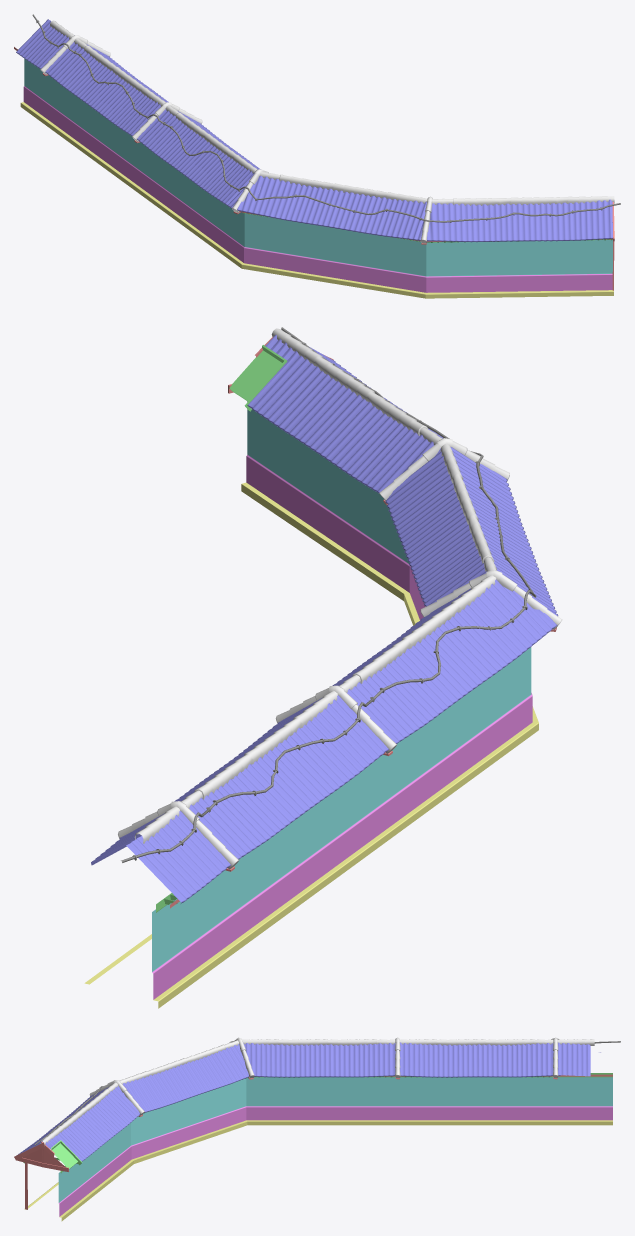
Rendered from SM_ENV_KNVLLG03_AreaD_Hokage_GateC.gltf.
The picture shows the model from 3 angles, top to bottom: view 1: azimuth 30°, elevation 25°; view 2: azimuth 150°, elevation 25°; view 3: azimuth 270°, elevation 25°; orthographic projection. The views are drawn at different scales.
Visible parts, largest first — view 1: SM_ENV_KNVLLG03_AreaD_Hokage_GateC; view 2: SM_ENV_KNVLLG03_AreaD_Hokage_GateC; view 3: SM_ENV_KNVLLG03_AreaD_Hokage_GateC.
Part boxes in pixels (bbox=[...]): SM_ENV_KNVLLG03_AreaD_Hokage_GateC: bbox=[14, 14, 620, 298]; SM_ENV_KNVLLG03_AreaD_Hokage_GateC: bbox=[84, 327, 562, 1008]; SM_ENV_KNVLLG03_AreaD_Hokage_GateC: bbox=[14, 1037, 620, 1221].
Bounding box in the file's own units: 19.95 × 6.01 × 42.18.
